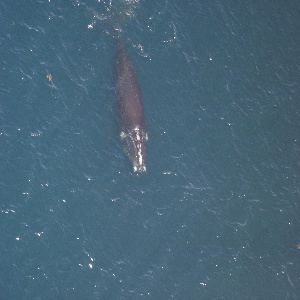cetacean: (115, 34, 149, 173)
